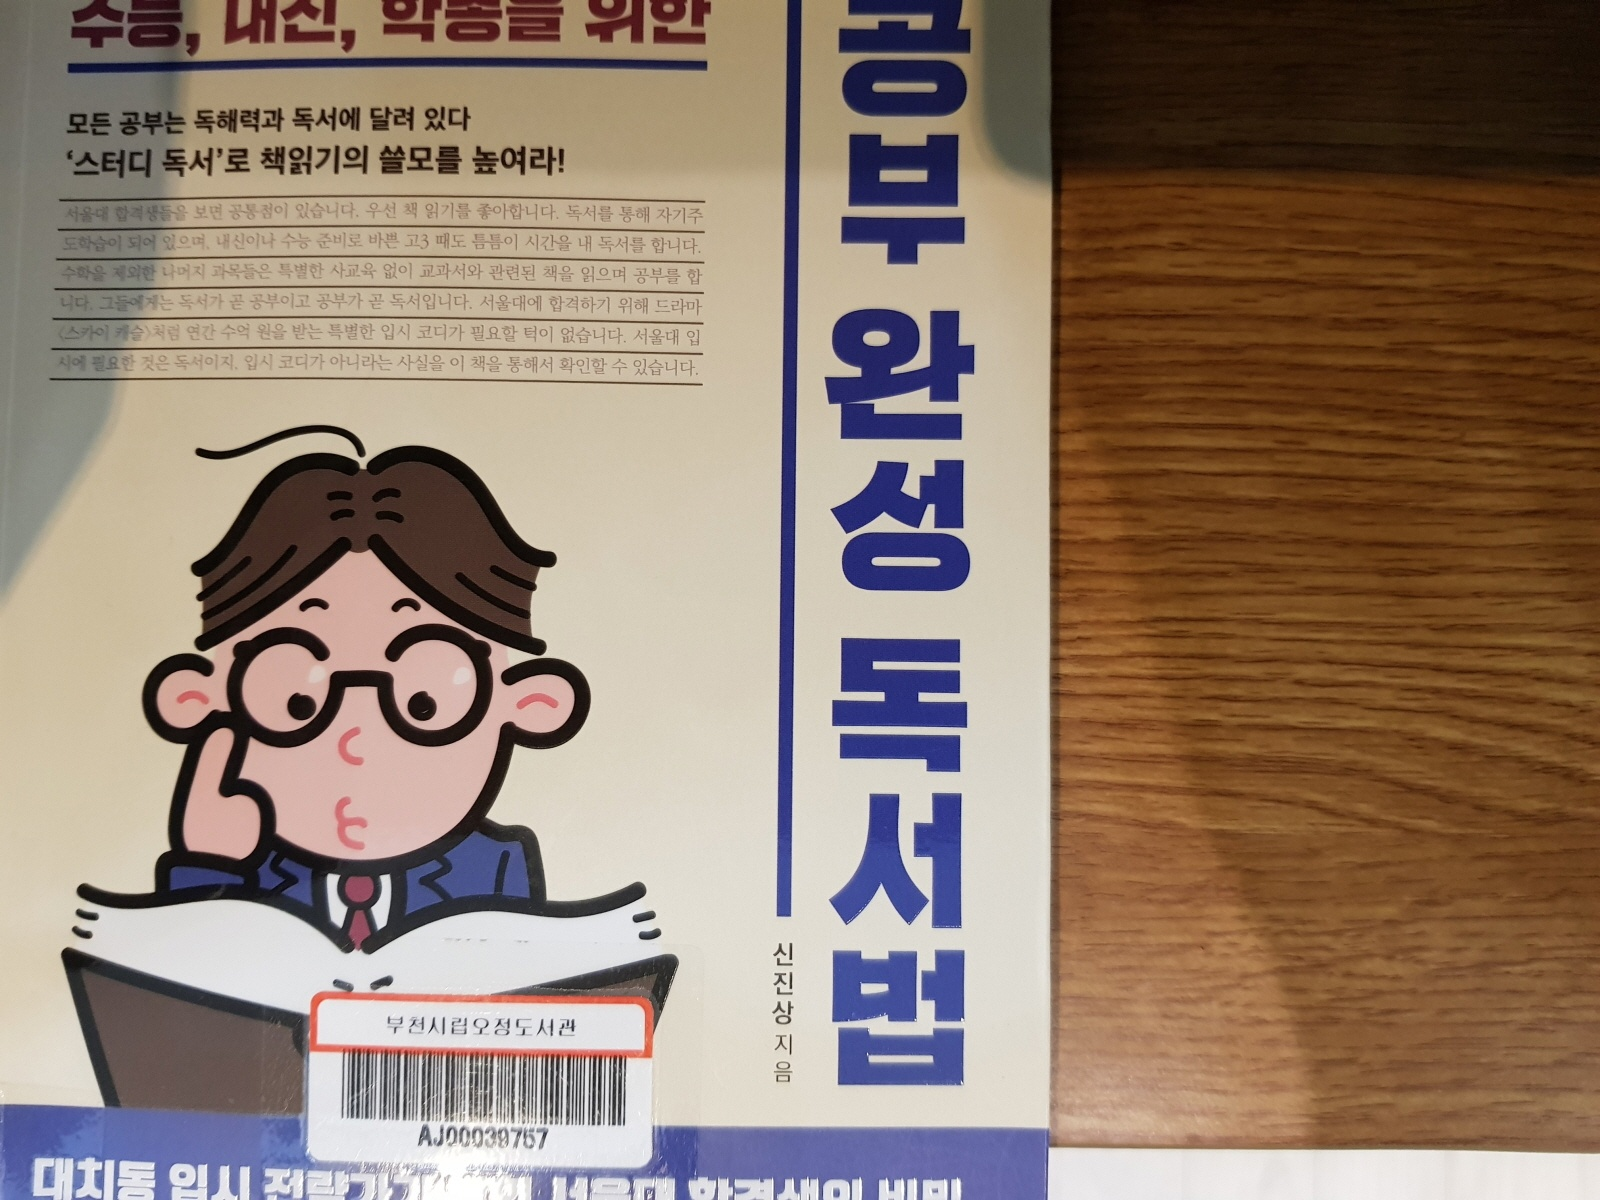text: (33, 0, 724, 396), (810, 301, 991, 1097), (813, 0, 989, 276), (379, 1007, 591, 1049), (766, 932, 806, 1095)
